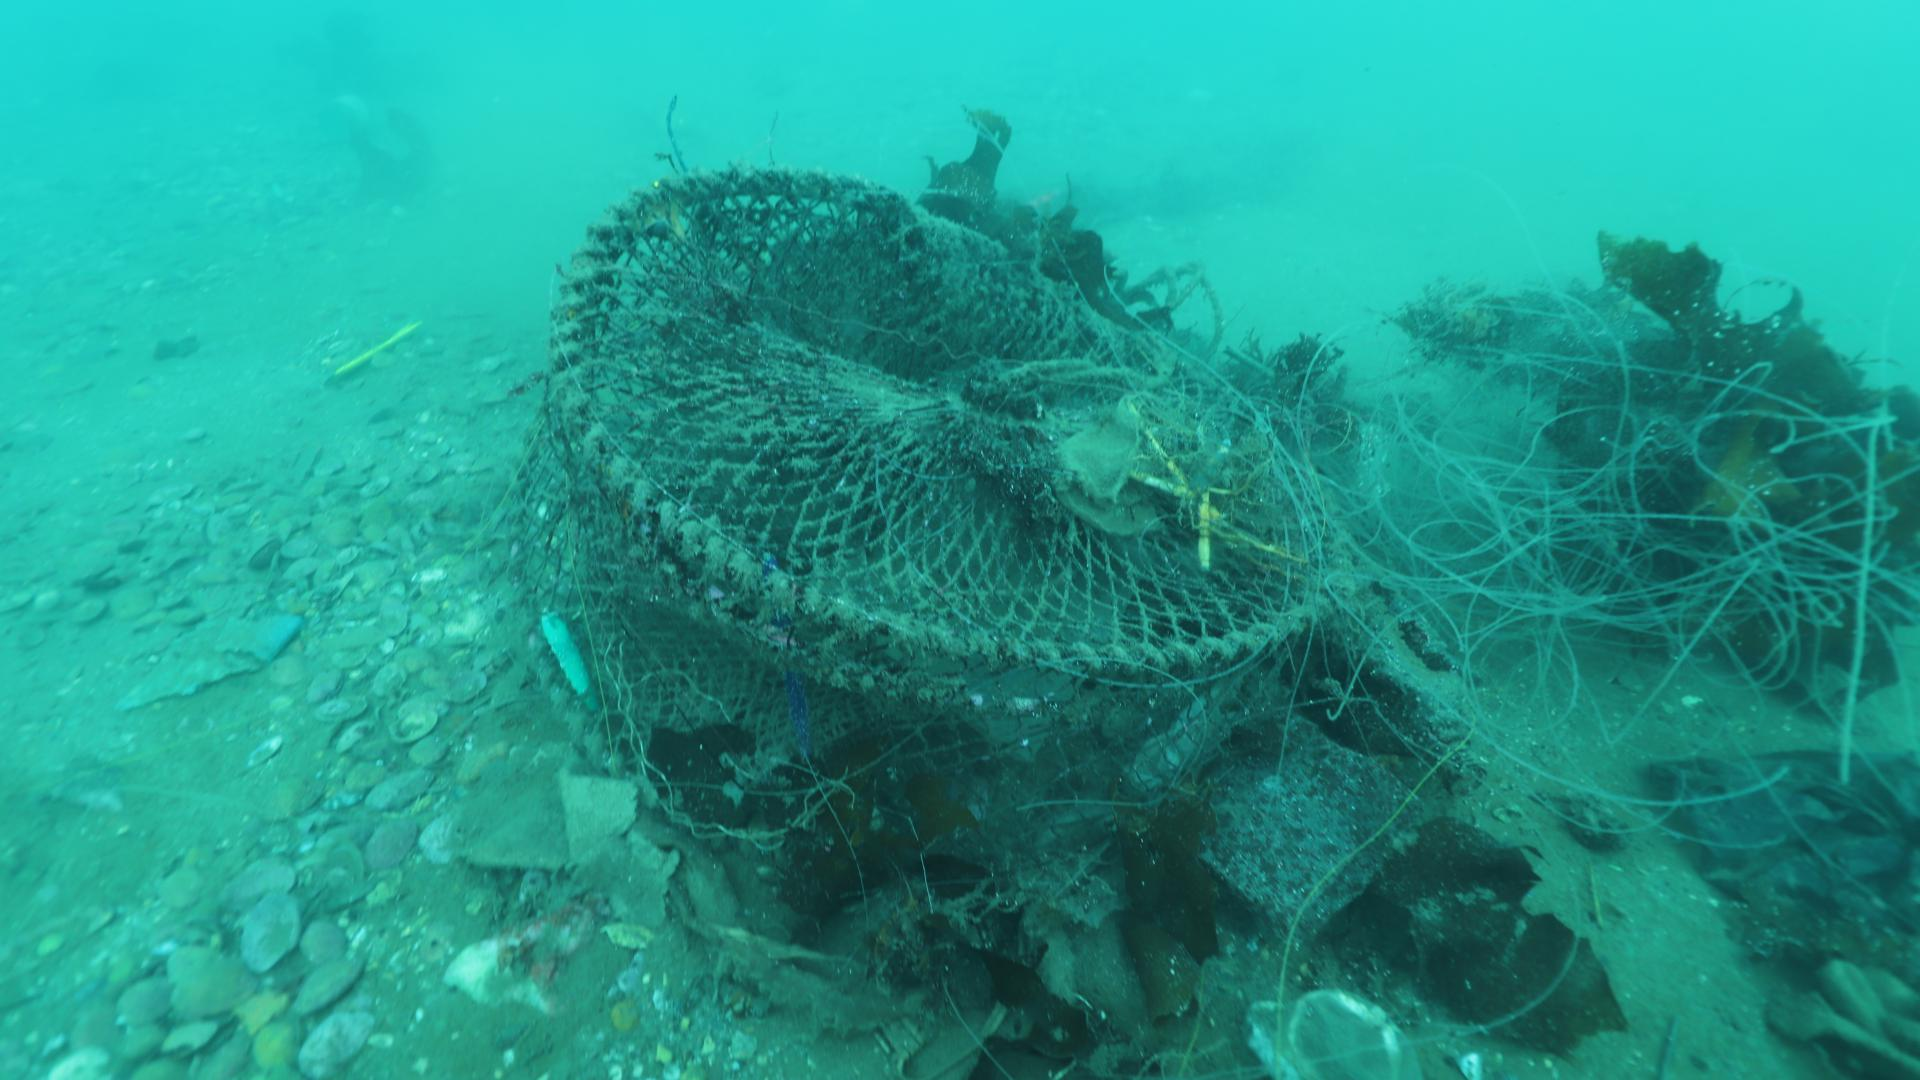circular fish trap: (512, 157, 1337, 727)
